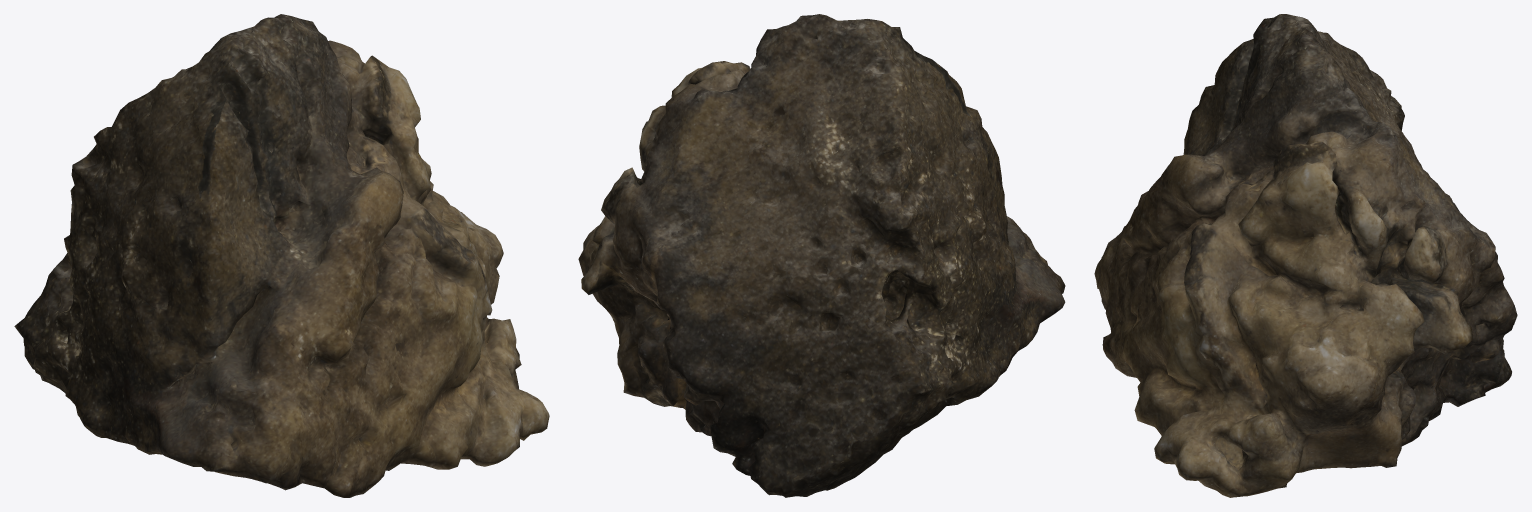
Rendered from paricutin_LOD2.glb.
3 views of the same model, side by side, from view 1: azimuth 30°, elevation 25°; view 2: azimuth 150°, elevation 25°; view 3: azimuth 270°, elevation 25° (orthographic). The views are drawn at different scales.
Visible parts, largest first — view 1: PariRemeshLOD2; view 2: PariRemeshLOD2; view 3: PariRemeshLOD2.
Boxes of the visible parts, x1,y1,x2,y2 form: PariRemeshLOD2: (14,14,549,497); PariRemeshLOD2: (578,14,1065,497); PariRemeshLOD2: (1094,14,1517,497).
Bounding box in the file's own units: 7.07 × 6.99 × 6.86.
1 material, 1 textured.
